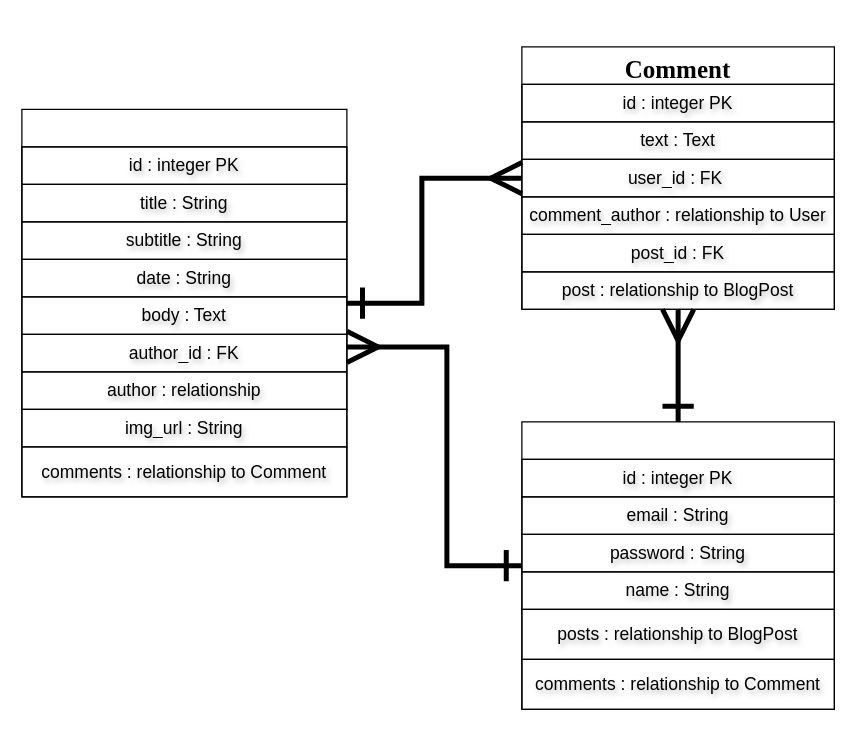
Image size: 856x731. Some labels were removed from this diagram. The shapes that lost their labels are listed below. From the top down, each one's box as (x1, y1, x2, y2) in pixels, then its label:
(21, 108, 347, 497): BlogPost
(521, 421, 834, 709): User
